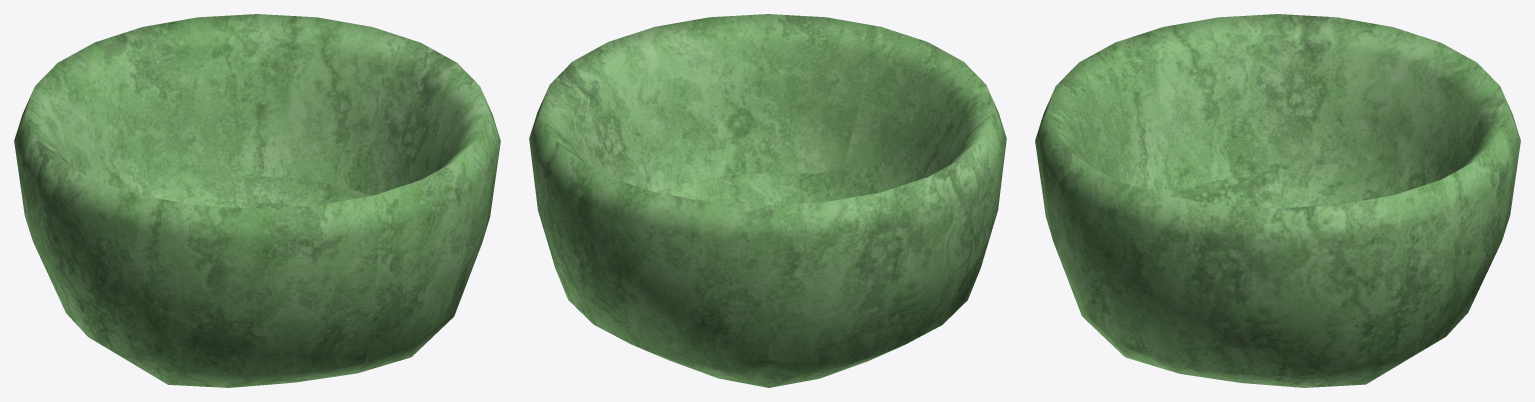
File: Bowl.fbx
3 renders of one model, left to right at view 1: azimuth 30°, elevation 25°; view 2: azimuth 150°, elevation 25°; view 3: azimuth 270°, elevation 25°, orthographic.
Parts seen in each view (by area): view 1: Cylinder; view 2: Cylinder; view 3: Cylinder.
Part boxes in pixels (box(x1,y1,x2,y2)): Cylinder: box(14, 14, 500, 387); Cylinder: box(529, 14, 1006, 387); Cylinder: box(1035, 14, 1520, 387).
Size of the model in its own units: 43.5 by 21.49 by 43.5.
Materials: 1 (1 with a texture image).
